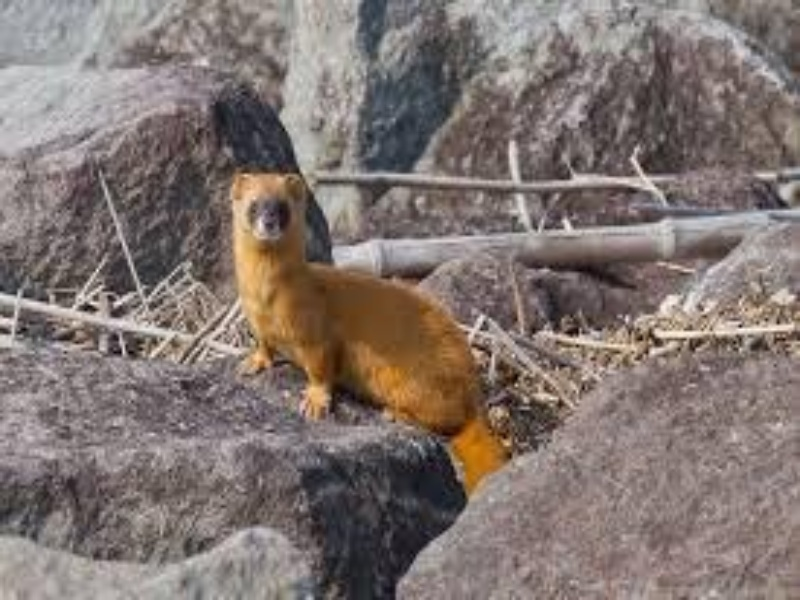minkish: (219, 163, 514, 501)
